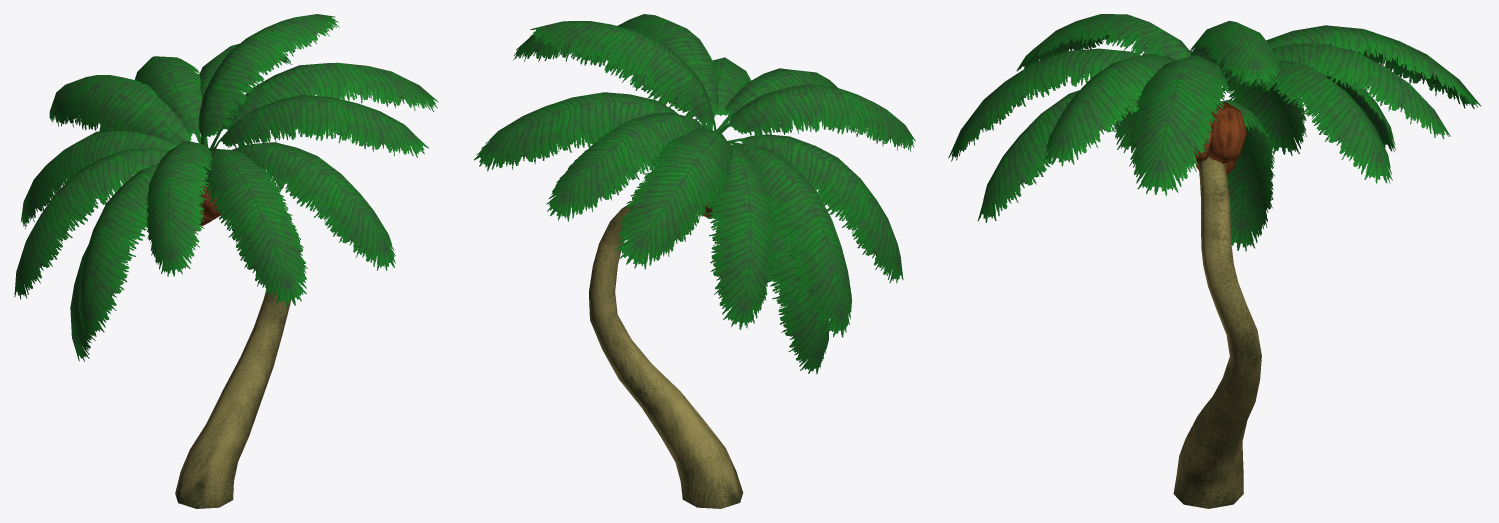
The model's file is Palmboom_v1.fbx.
3 views of the same model, side by side, from view 1: azimuth 30°, elevation 25°; view 2: azimuth 150°, elevation 25°; view 3: azimuth 270°, elevation 25° (orthographic). The views are drawn at different scales.
Parts seen in each view (by area): view 1: Palmboomstam001; view 2: Palmboomstam001; view 3: Palmboomstam001.
Part boxes in pixels (x1=…): Palmboomstam001: x1=14, y1=14, x2=438, y2=508; Palmboomstam001: x1=474, y1=14, x2=915, y2=508; Palmboomstam001: x1=948, y1=14, x2=1481, y2=508.
Bounding box in the file's own units: 160 × 182 × 173.
